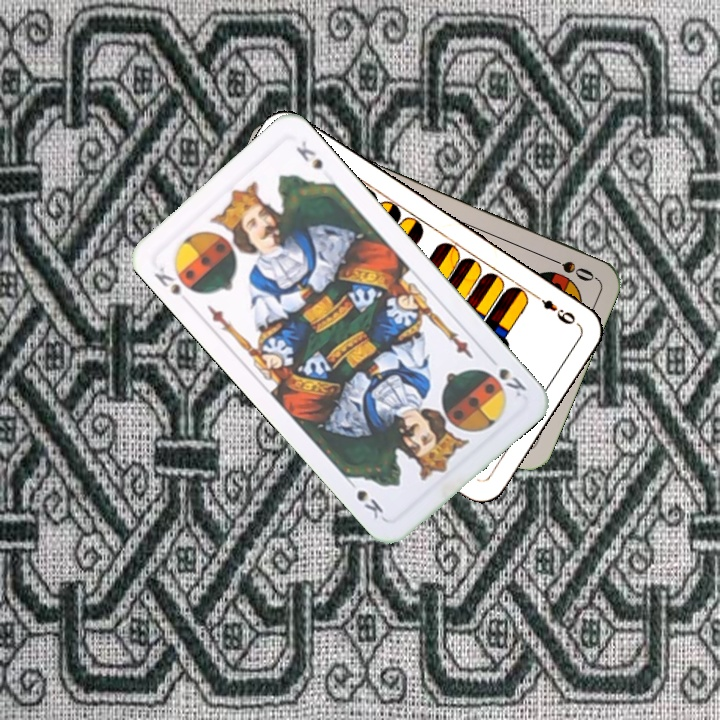E9: (528, 289, 578, 328)
SK: (484, 351, 529, 400), (150, 263, 183, 298)
SO: (541, 251, 597, 284)
